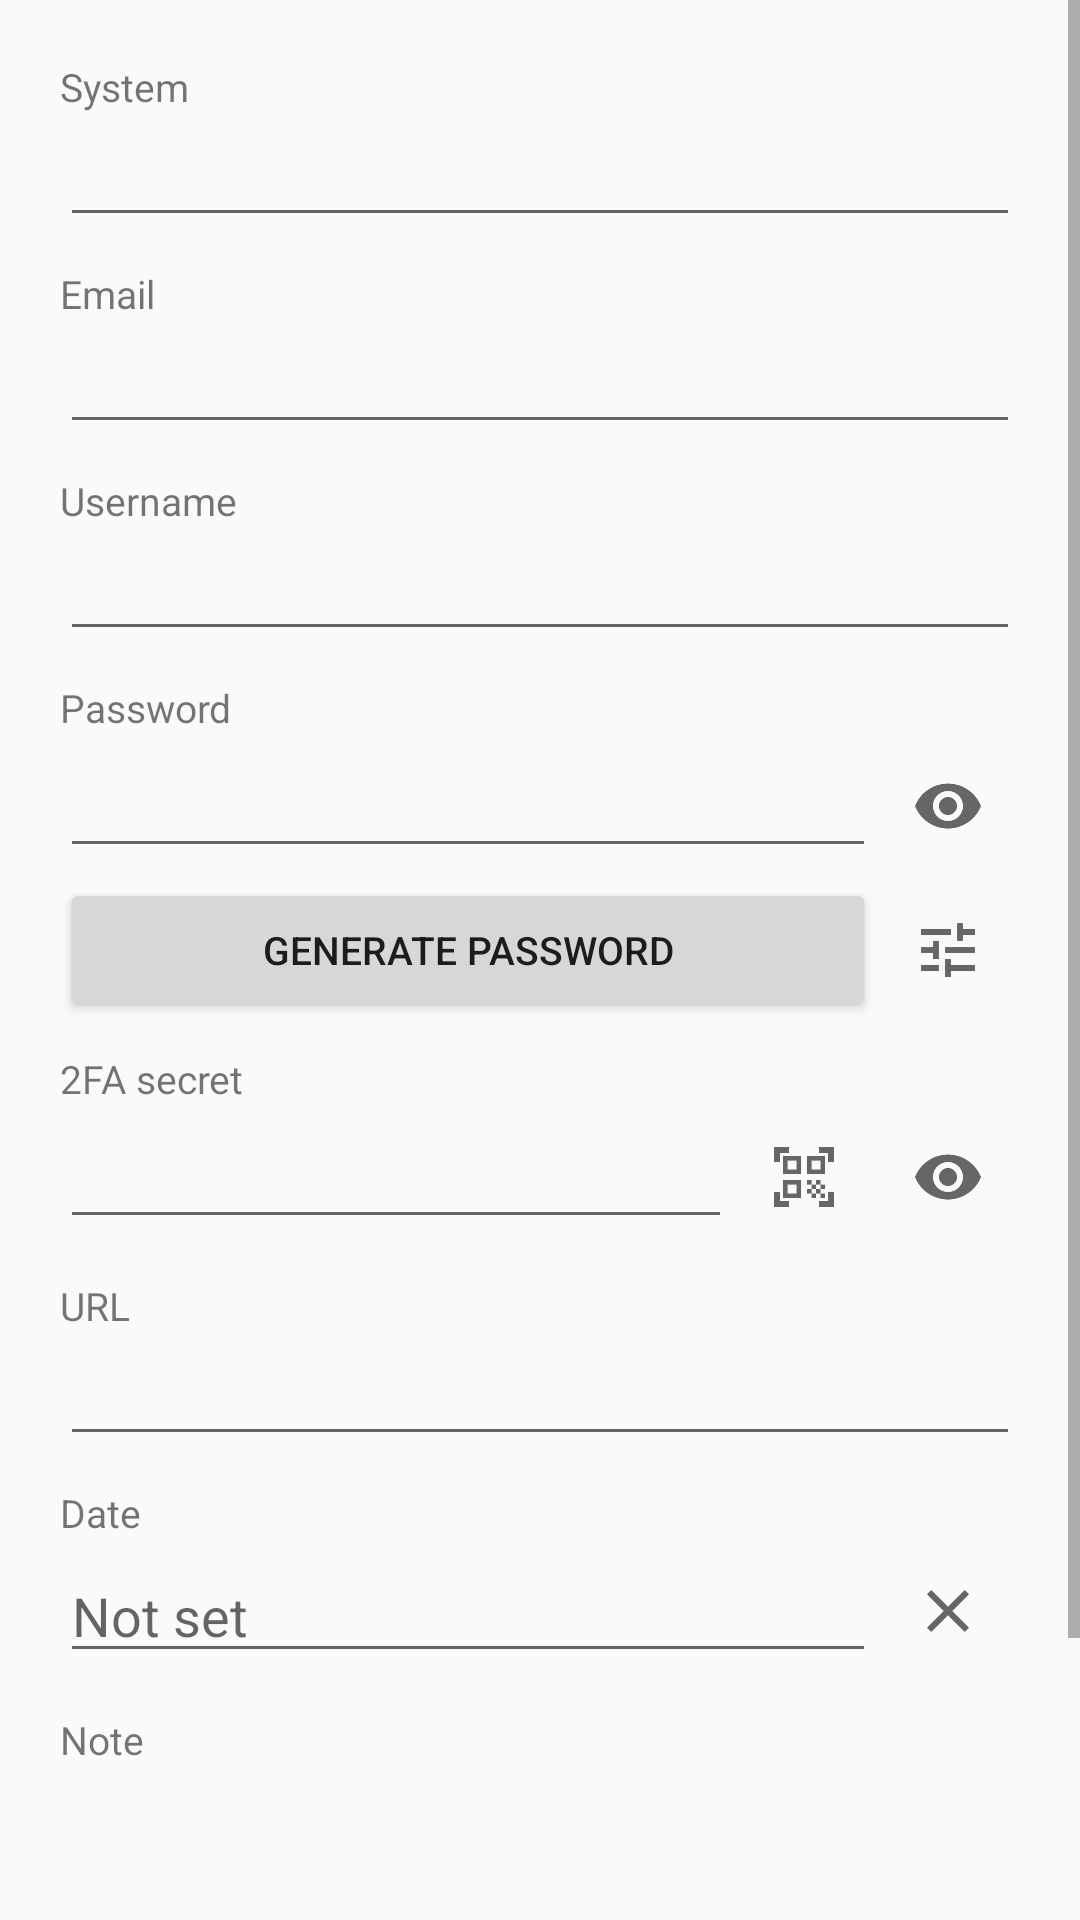

Named icons in this screenshot (1080×1920) and their bounding boxes, (x1, y1, x2, y2):
Scan QR code: (774, 1147, 834, 1207)
